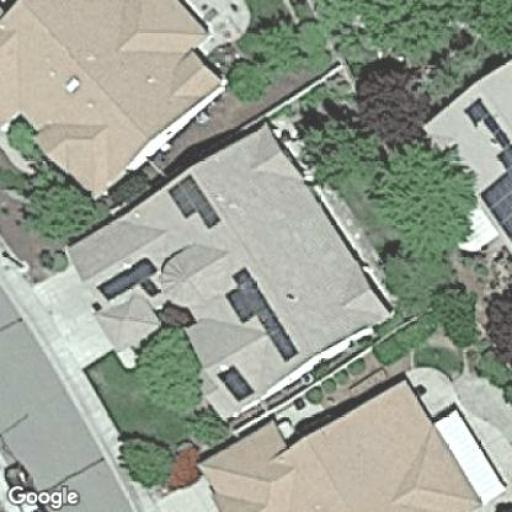solar-panel: (222, 264, 300, 360), (462, 91, 510, 235), (164, 170, 224, 228), (94, 255, 166, 300), (213, 359, 257, 405)
